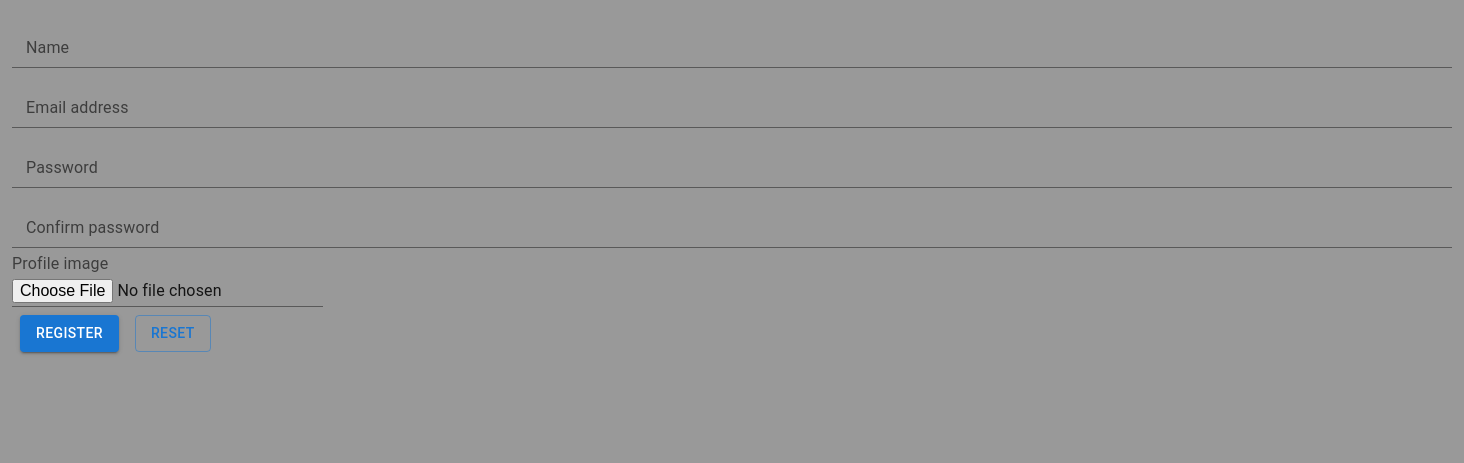
Register › schema validation › should display required errors
Click the button "Register". click: click(70, 333)
box: x1=20 y1=315 x2=119 y2=352
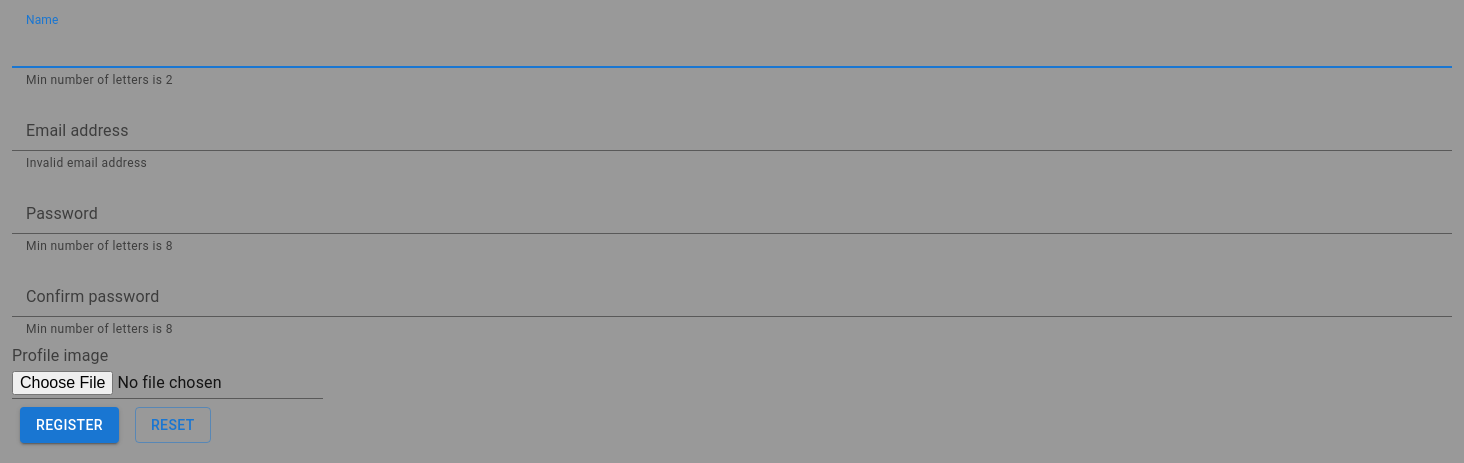
expect the number of elements with test id "error-message" is 4: met, box x1=26 y1=73 x2=173 y2=87; x1=26 y1=156 x2=147 y2=170; x1=26 y1=239 x2=173 y2=253; x1=26 y1=322 x2=173 y2=336
expect the text "Min number of letters is 2" is shown: met, box x1=26 y1=73 x2=173 y2=87
expect the text "Invalid email address" is shown: met, box x1=26 y1=156 x2=147 y2=170
